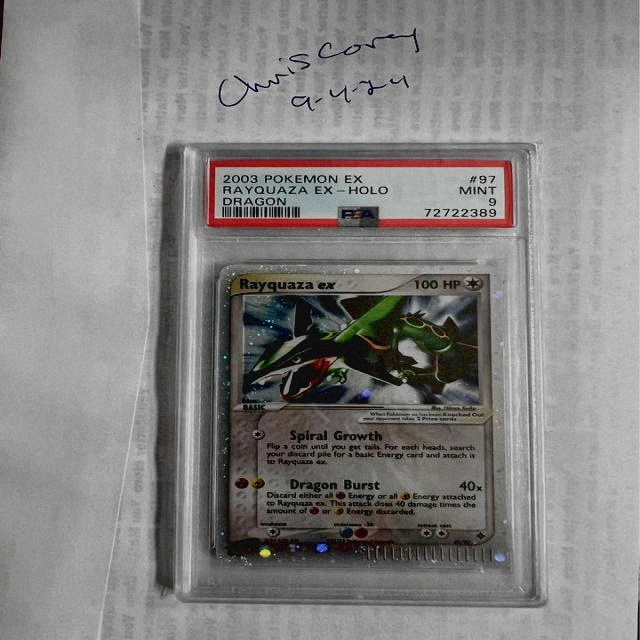card: (213, 262, 511, 570)
